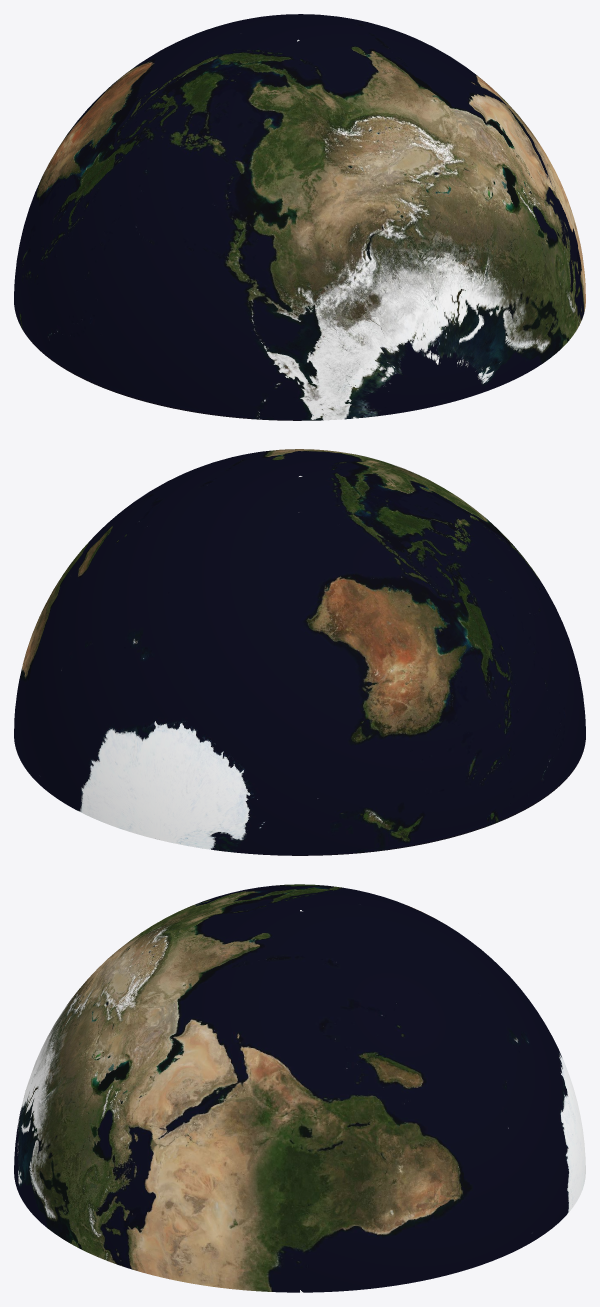
3 views of the same model, one above another, from view 1: azimuth 30°, elevation 25°; view 2: azimuth 150°, elevation 25°; view 3: azimuth 270°, elevation 25° (orthographic).
Parts seen in each view (by area): view 1: DefaultName.009, DefaultName.012, DefaultName.006, DefaultName.003; view 2: DefaultName.006, DefaultName.003, DefaultName.009, DefaultName.012; view 3: DefaultName.012, DefaultName.003, DefaultName.006, DefaultName.009.
Boxes of the visible parts, bbox=[...] form: DefaultName.009: bbox=[52, 41, 442, 420]; DefaultName.012: bbox=[300, 34, 585, 404]; DefaultName.006: bbox=[14, 20, 299, 360]; DefaultName.003: bbox=[237, 14, 456, 60]; DefaultName.006: bbox=[157, 476, 547, 855]; DefaultName.003: bbox=[14, 469, 299, 839]; DefaultName.009: bbox=[300, 455, 585, 795]; DefaultName.012: bbox=[145, 449, 364, 494]; DefaultName.012: bbox=[14, 911, 299, 1292]; DefaultName.003: bbox=[300, 911, 585, 1292]; DefaultName.006: bbox=[300, 884, 584, 1147]; DefaultName.009: bbox=[14, 884, 299, 1152].
Size of the model in its own units: 127563 by 63781 by 127135.
Materials: 4 (4 with a texture image).
